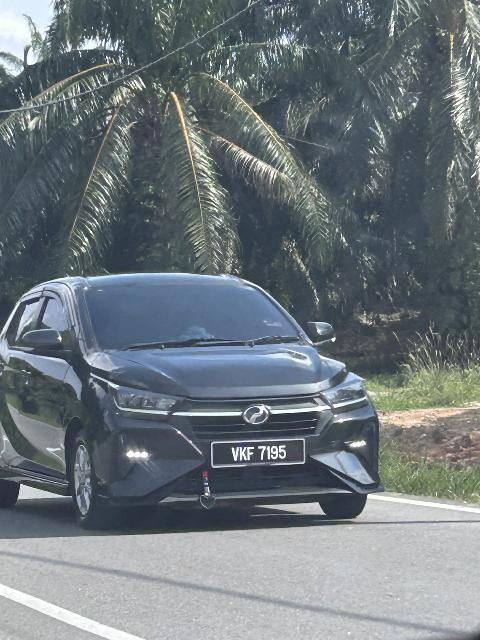License_Plate: (212, 440, 307, 470)
VKF7195: (212, 440, 307, 470)
car: (9, 273, 385, 526)
